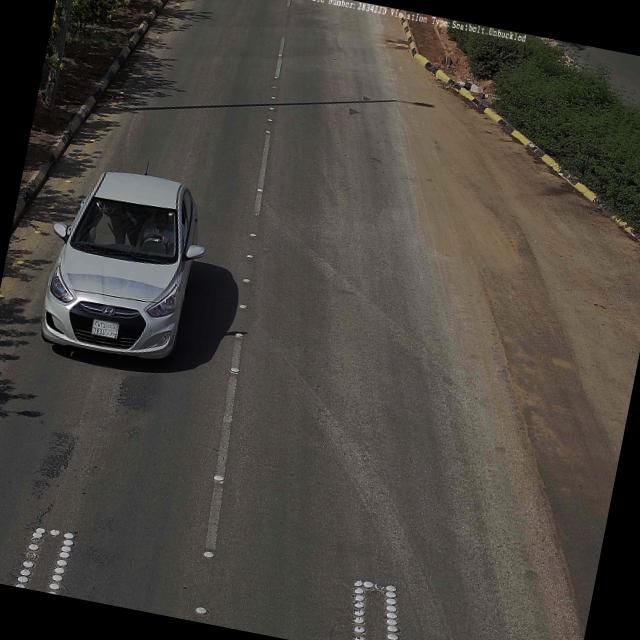person_without_seatbelt: (140, 212, 175, 251)
